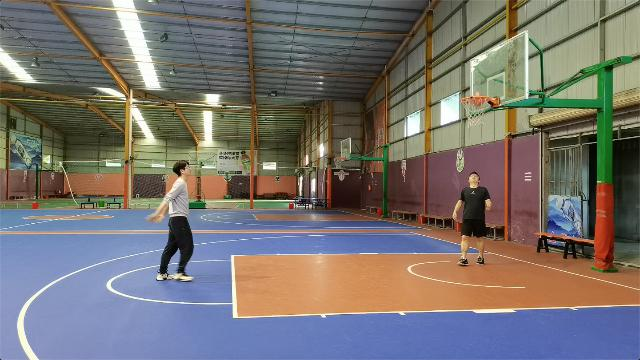basket: (459, 95, 489, 128)
goal: (468, 91, 486, 106)
